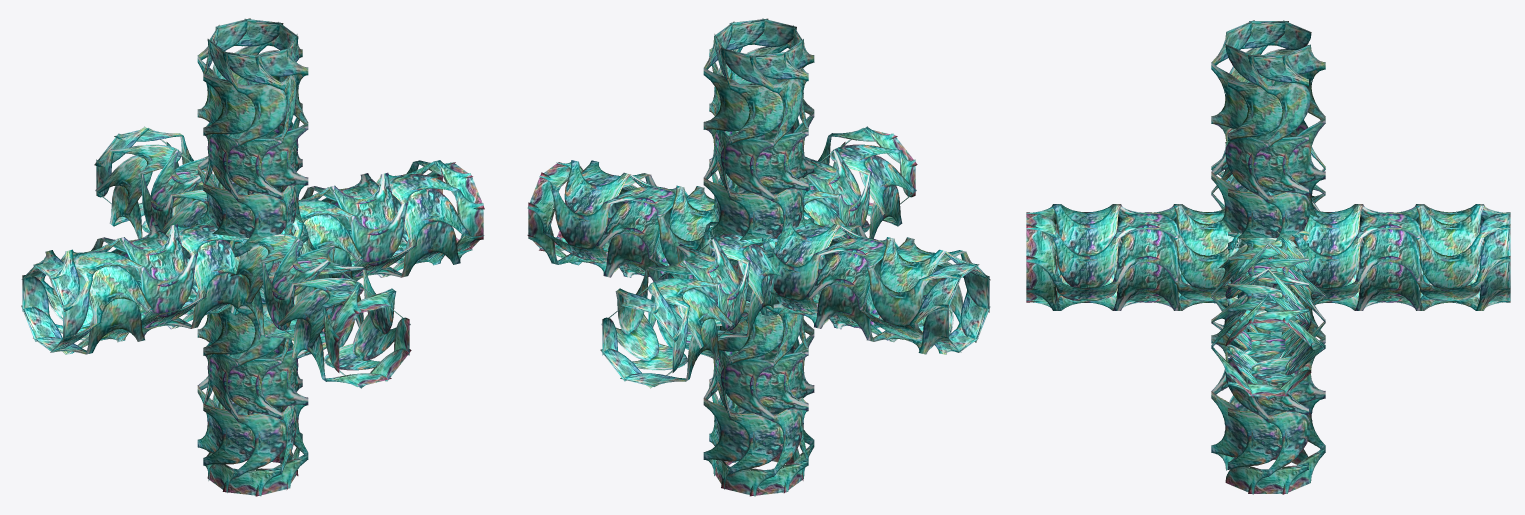
Rendered from StarTetrahemihexacron.gltf.
3 views of the same model, side by side, from view 1: azimuth 30°, elevation 25°; view 2: azimuth 150°, elevation 25°; view 3: azimuth 270°, elevation 25° (orthographic).
Parts seen in each view (by area): view 1: StarTetrahemihexacron; view 2: StarTetrahemihexacron; view 3: StarTetrahemihexacron.
Boxes of the visible parts, x1,y1,x2,y2 form: StarTetrahemihexacron: (21,18,484,496); StarTetrahemihexacron: (527,18,990,496); StarTetrahemihexacron: (1026,20,1510,494).
Size of the model in its own units: 6 by 6 by 6.
Materials: 1 (1 with a texture image).
